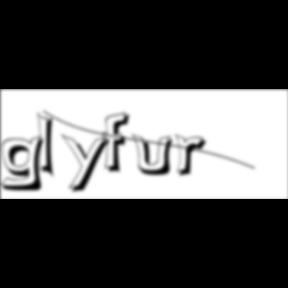I: (37, 110, 61, 182)
f: (102, 111, 136, 175)
g: (0, 134, 52, 194)
r: (175, 134, 213, 180)
u: (132, 132, 180, 178)
y: (62, 132, 116, 196)
